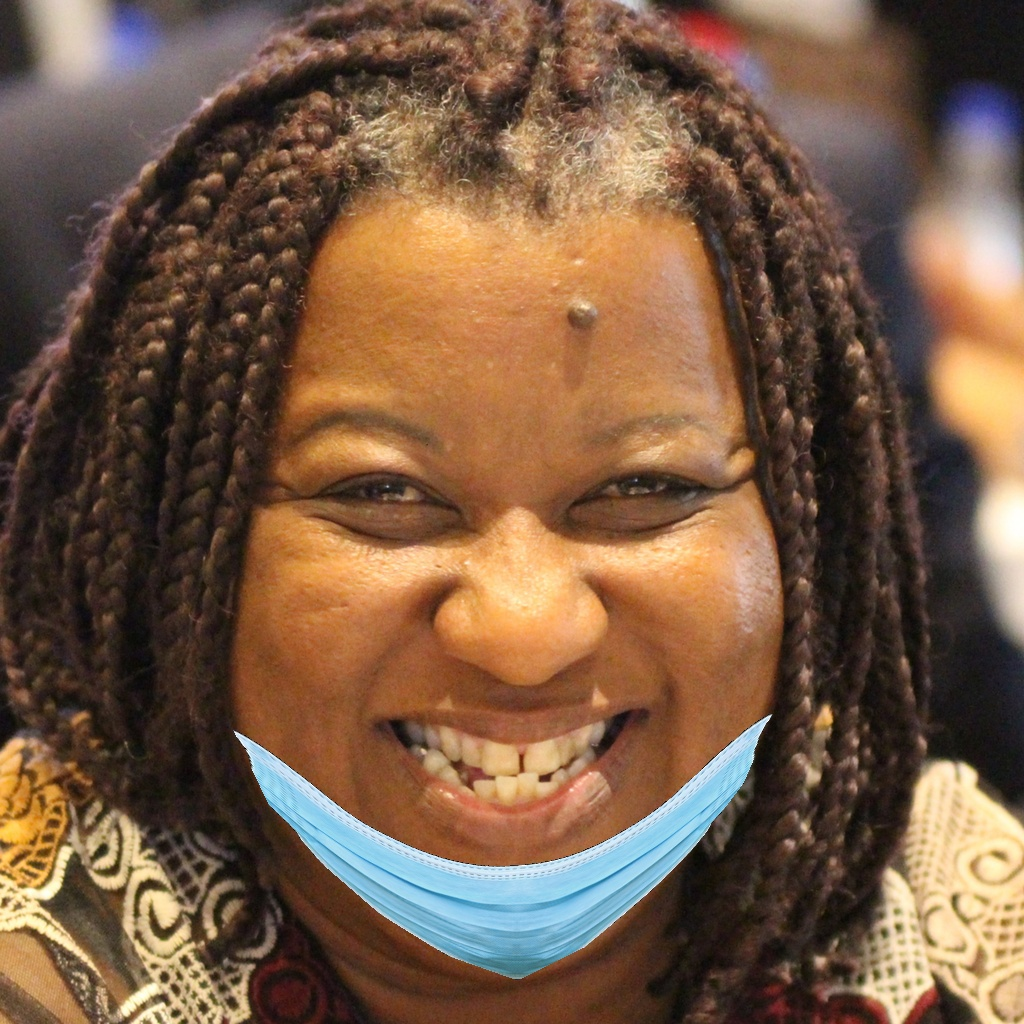mascarilla_mal_puesta: (227, 403, 832, 978)
